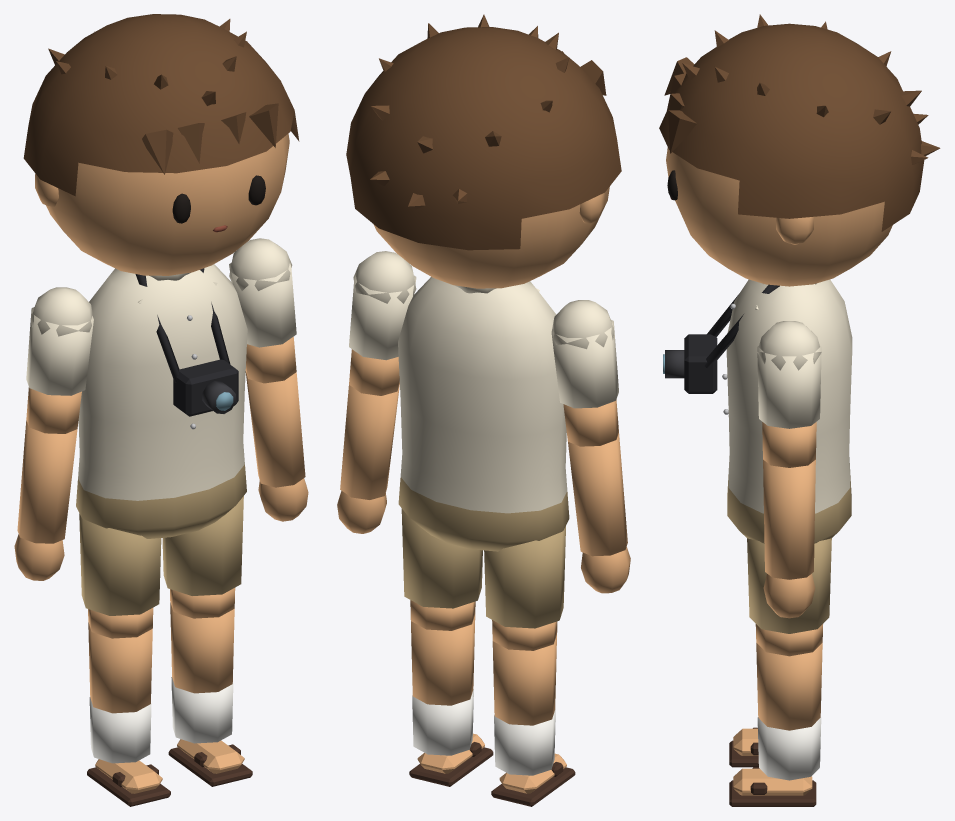
File: era4_tourist.glb
3 views of the same model, side by side, from view 1: azimuth 30°, elevation 25°; view 2: azimuth 150°, elevation 25°; view 3: azimuth 270°, elevation 25° (orthographic).
Parts seen in each view (by area): view 1: head, body, shin_L, shin_R, arm_R, leg_R, arm_L, forearm_R, leg_L, forearm_L; view 2: head, body, shin_R, shin_L, arm_R, leg_R, arm_L, forearm_R, leg_L, forearm_L; view 3: head, body, shin_L, arm_L, forearm_L, leg_L, shin_R.
Part boxes in pixels (x1,y1,x2,y2): head: [23, 14, 299, 275]; body: [76, 264, 247, 538]; shin_L: [168, 602, 252, 786]; shin_R: [87, 622, 170, 806]; arm_R: [26, 287, 93, 433]; leg_R: [79, 513, 161, 638]; arm_L: [229, 238, 296, 383]; forearm_R: [14, 420, 77, 580]; leg_L: [162, 496, 243, 618]; forearm_L: [245, 371, 308, 521]; head: [346, 14, 621, 288]; body: [398, 277, 569, 551]; shin_R: [491, 635, 575, 806]; shin_L: [409, 614, 493, 786]; arm_R: [551, 300, 618, 446]; leg_R: [484, 526, 565, 650]; arm_L: [349, 251, 416, 395]; forearm_R: [568, 433, 630, 593]; leg_L: [401, 508, 482, 630]; forearm_L: [337, 383, 399, 533]; head: [659, 14, 940, 286]; body: [663, 279, 852, 543]; shin_L: [729, 643, 822, 806]; arm_L: [757, 321, 821, 467]; forearm_L: [763, 459, 815, 618]; leg_L: [747, 538, 831, 656]; shin_R: [729, 727, 758, 767].
Bounding box in the file's own units: 0.5995 × 1.48 × 0.5093.
